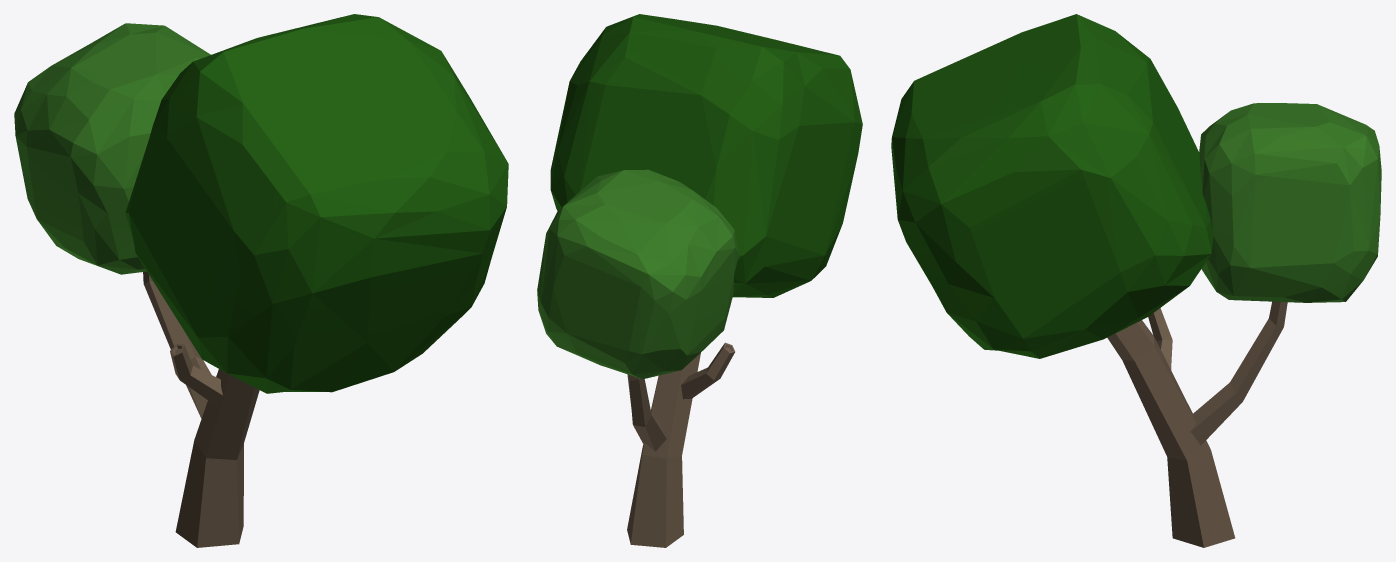
File: Tree13.glb
3 renders of one model, left to right at view 1: azimuth 30°, elevation 25°; view 2: azimuth 150°, elevation 25°; view 3: azimuth 270°, elevation 25°, orthographic. The views are drawn at different scales.
Visible parts, largest first — view 1: Tree_12; view 2: Tree_12; view 3: Tree_12.
Part boxes in pixels (x1,y1,x2,y2): Tree_12: (14, 14, 508, 547); Tree_12: (537, 14, 862, 547); Tree_12: (891, 14, 1381, 547).
Bounding box in the file's own units: 2.1 × 3.97 × 3.57.
1 material, 1 textured.
